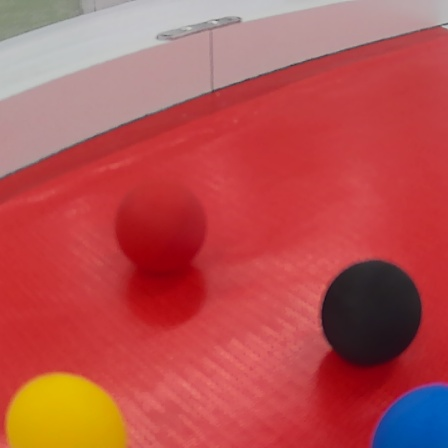black: (319, 256, 425, 365)
blue: (371, 385, 448, 448)
red: (117, 183, 207, 273)
red_base: (0, 22, 448, 446)
yellow: (3, 371, 128, 448)
